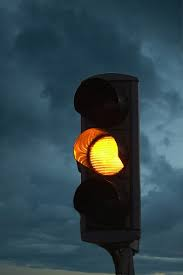amber: (70, 71, 151, 255), (83, 85, 128, 228)
